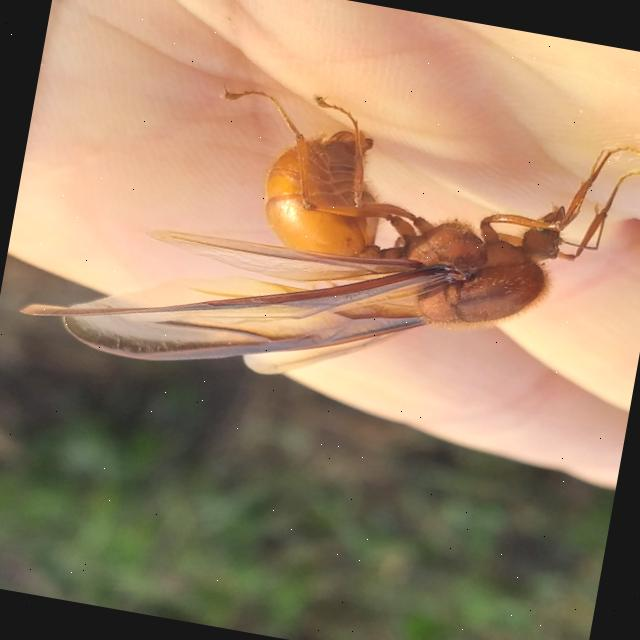Alive-Male-Alate: (13, 40, 640, 445)
